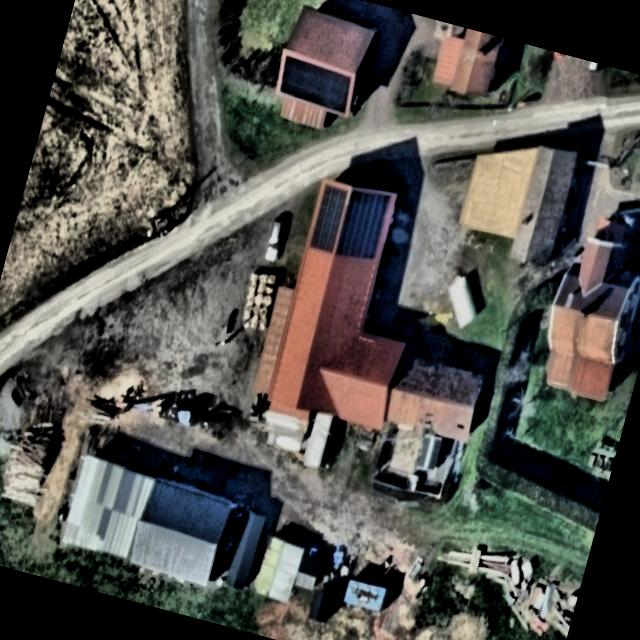roof_pv: (272, 54, 356, 116), (334, 183, 394, 264), (303, 180, 351, 258)
